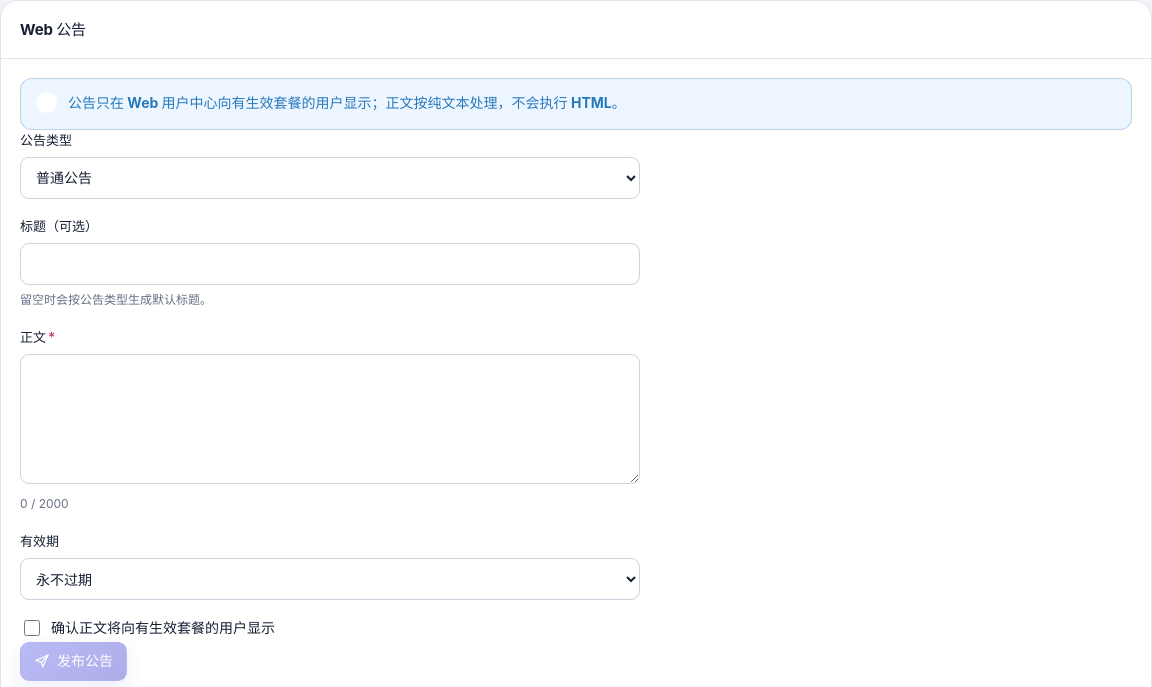
Test: Web announcement administration › reconciles an unknown publish outcome without replaying the write
Type "新的正文" into the text box labelled "正文".
click(330, 419); type("新的正文")  # box [20, 354, 640, 484]
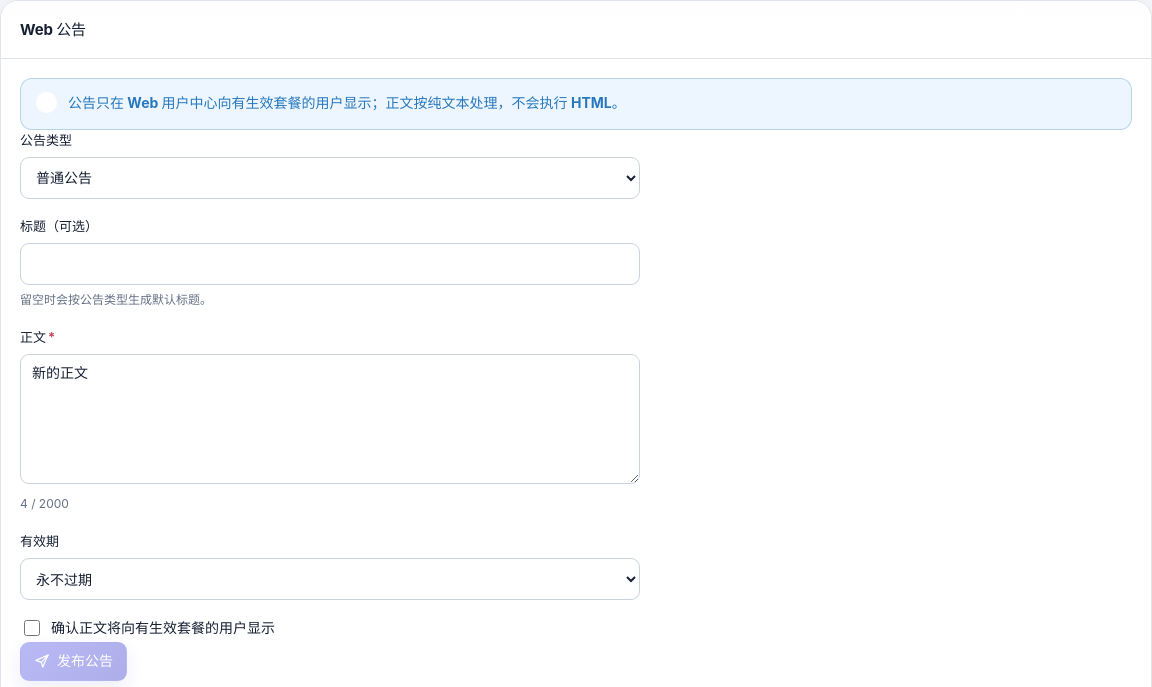
Click the text "确认正文将向有生效套餐的用户显示".
click(163, 628)  # box [51, 617, 275, 639]
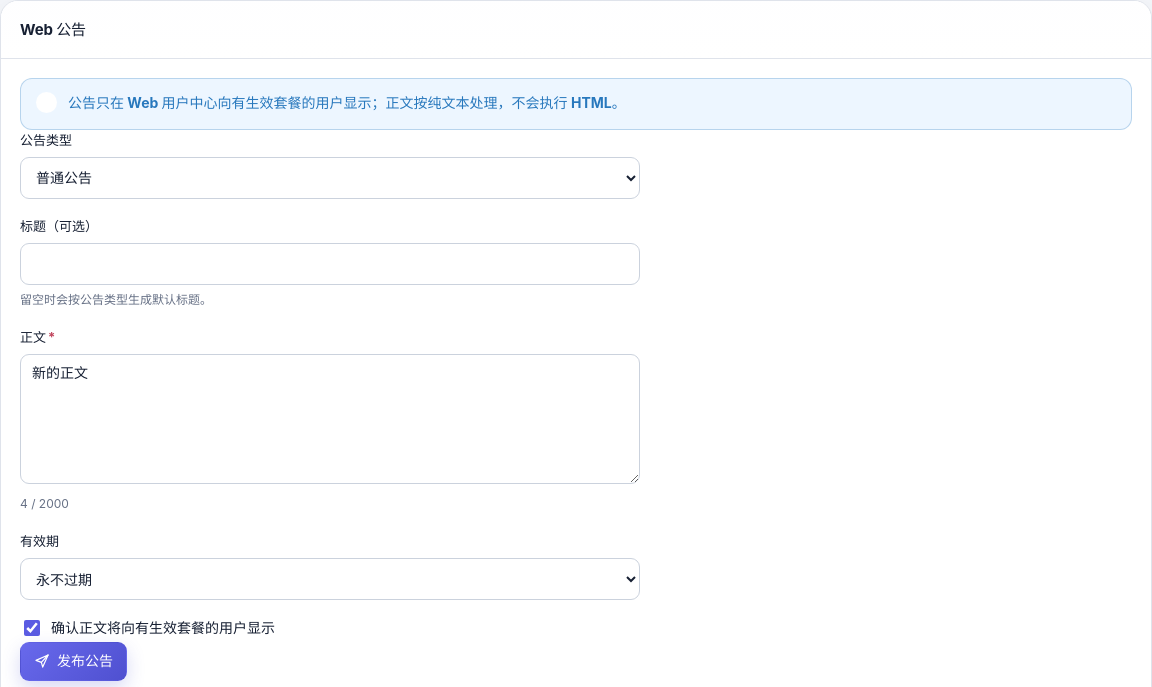
Click the button "发布公告".
click(74, 661)  # box [20, 642, 127, 681]
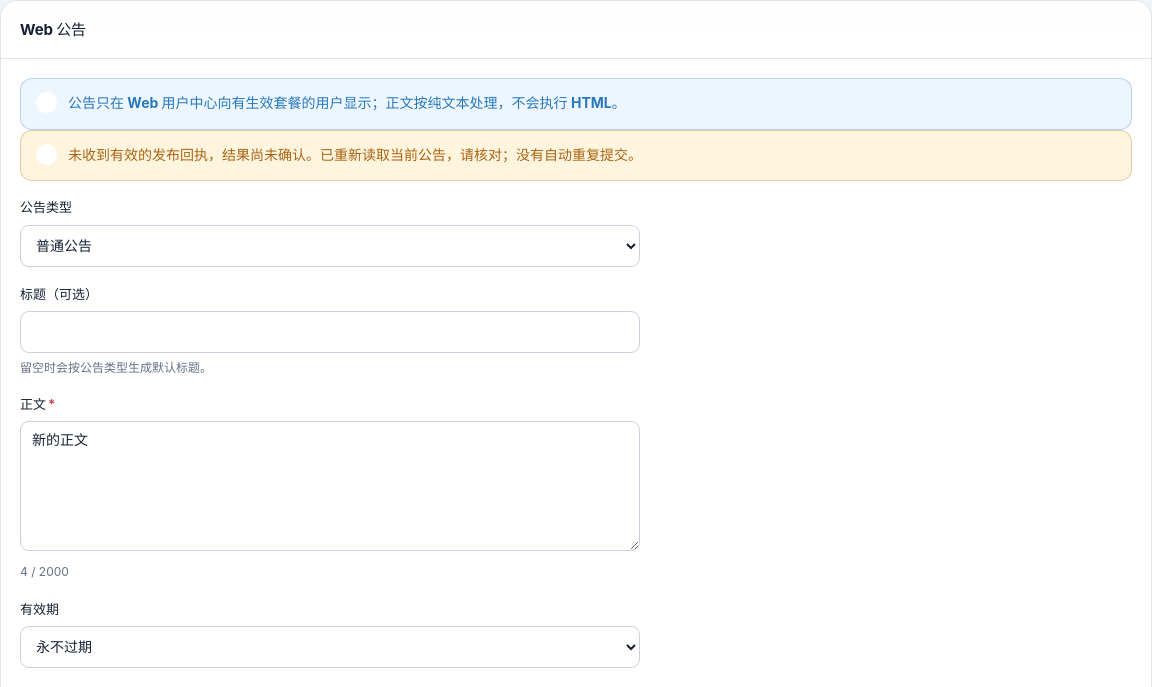
Expected: the text "公告已发布。" is not shown
Expected: the text "未收到有效的发布回执，结果尚未确认。已重新读取当前公告，请核对；没有自动重复提交。" is shown, [68, 146, 642, 163]
